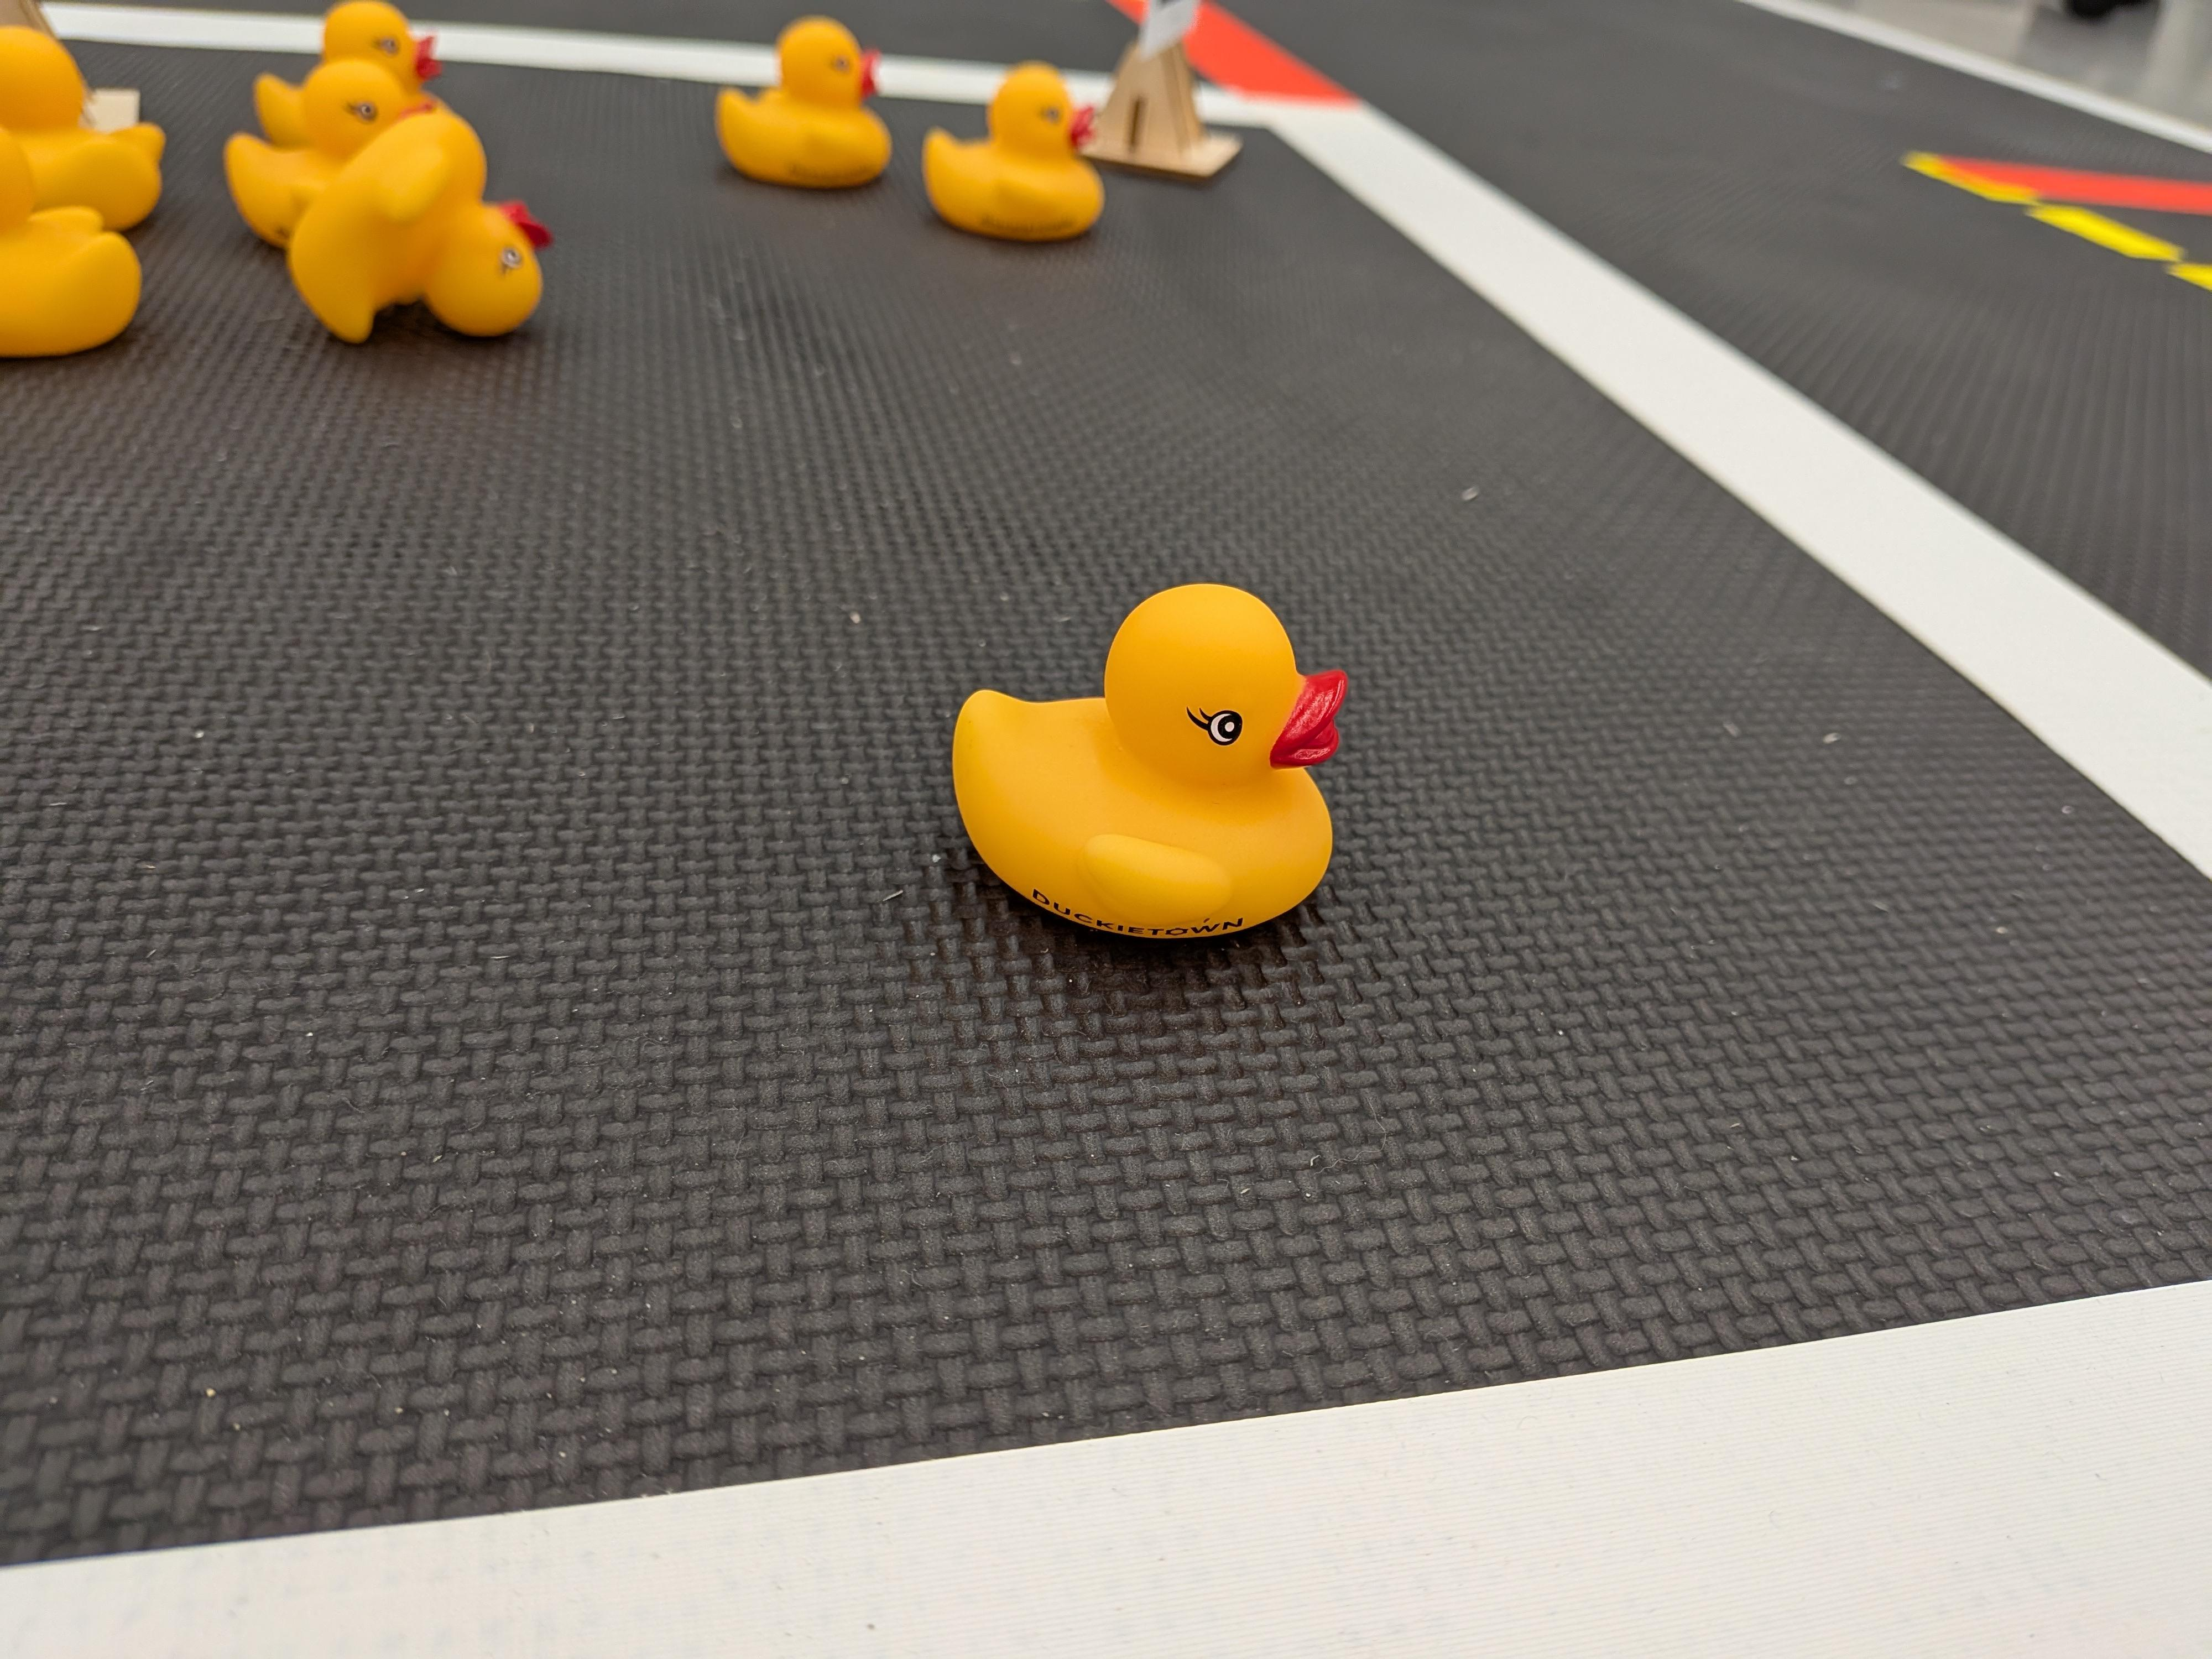peasant: (946, 580, 1346, 953), (287, 105, 547, 357), (219, 75, 479, 275), (253, 0, 469, 211), (0, 113, 146, 380), (916, 63, 1116, 256), (0, 19, 178, 235), (718, 9, 894, 218)
stopbar: (1935, 155, 2212, 216)
whiteline: (0, 1272, 2210, 1659), (1258, 68, 2207, 892), (0, 0, 1367, 134)
yellowline: (1897, 150, 2212, 293)
